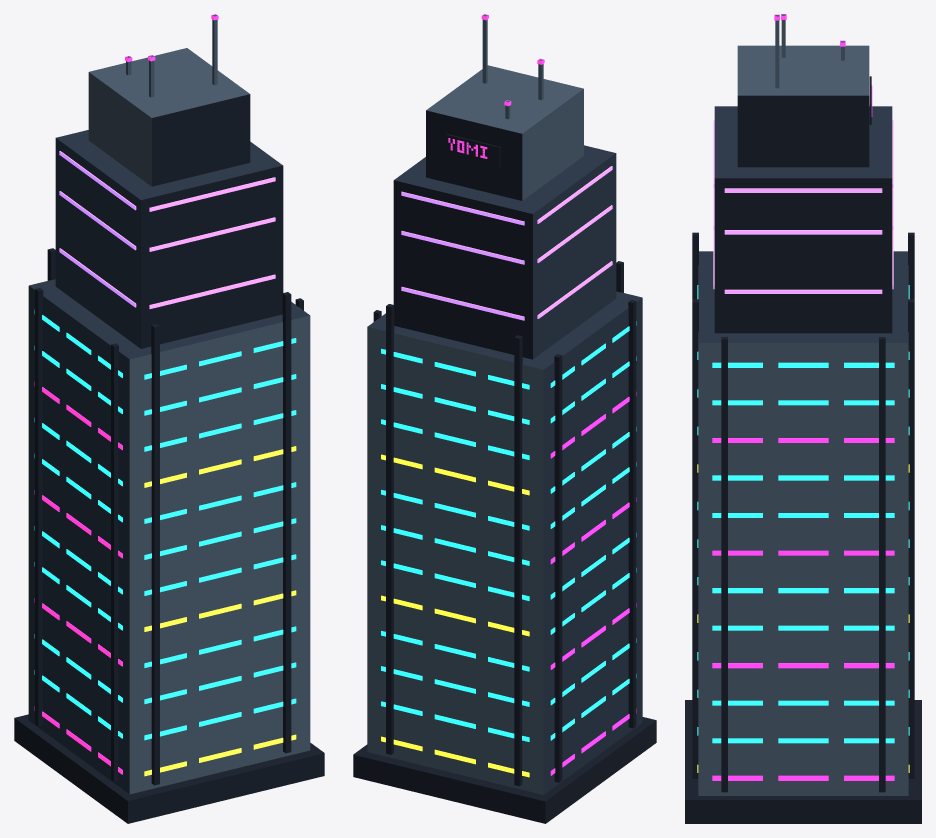
File: prop-tower-a-5455ca1f.glb
The picture shows the model from 3 angles, left to right: view 1: azimuth 30°, elevation 25°; view 2: azimuth 150°, elevation 25°; view 3: azimuth 270°, elevation 25°; orthographic projection. The views are drawn at different scales.
Visible parts, largest first — view 1: prop-tower-a_body; view 2: prop-tower-a_body; view 3: prop-tower-a_body.
Part boxes in pixels (x1=…): prop-tower-a_body: x1=14, y1=14, x2=324, y2=823; prop-tower-a_body: x1=353, y1=14, x2=656, y2=823; prop-tower-a_body: x1=685, y1=14, x2=921, y2=823.
Size of the model in its own units: 36 by 130 by 36.
